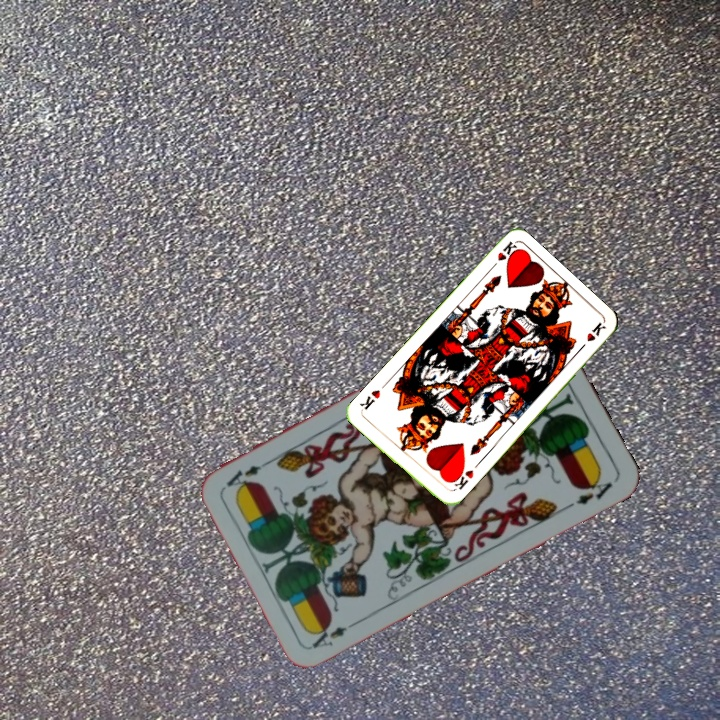EA: (307, 616, 363, 651)
HK: (485, 238, 521, 273), (446, 463, 476, 494)
